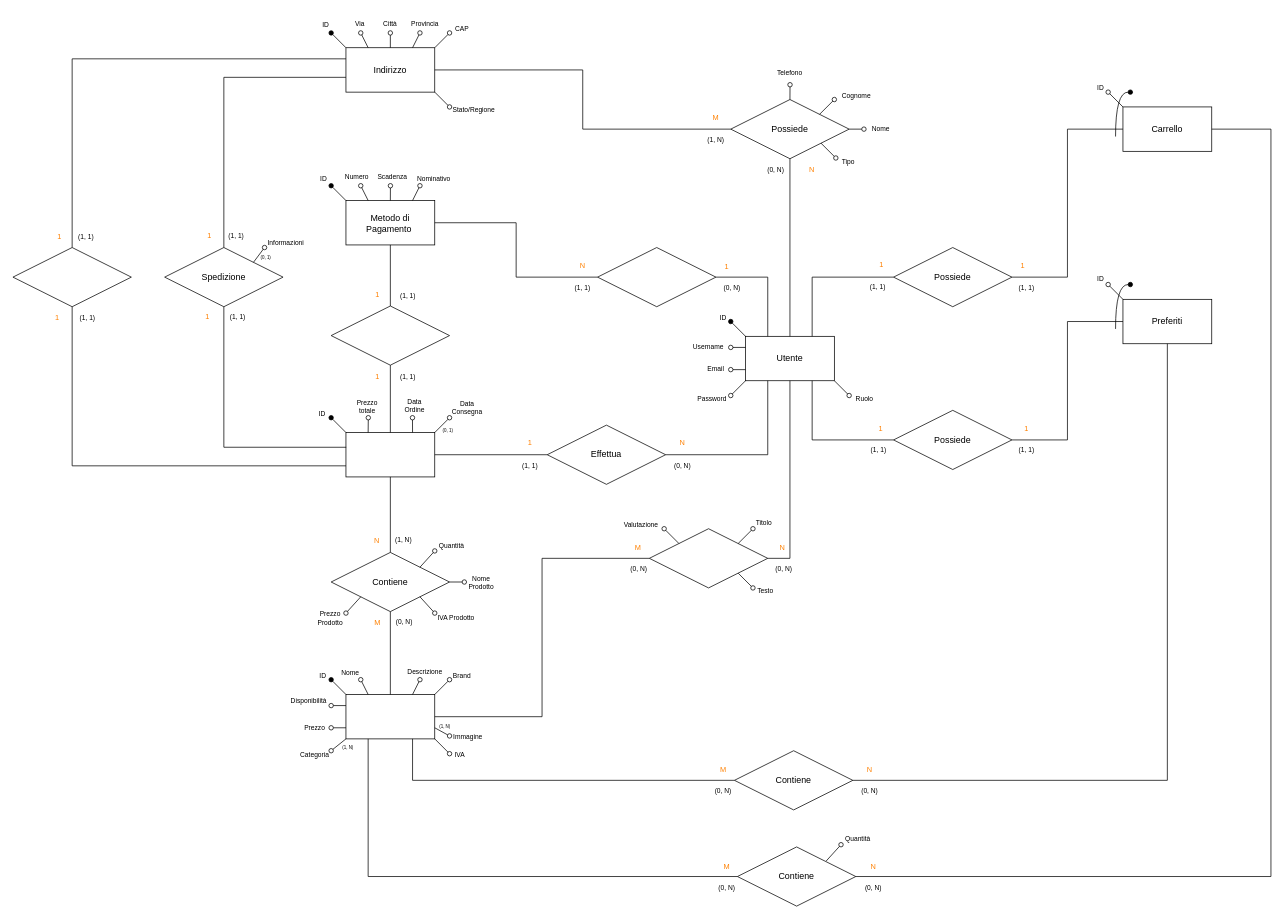
The diagram is 1285 pixels wide and 919 high, and some of its shapes have lost their labels. The shapes that lost their labels are listed below. From the top down, each one's centre as x and y in pixels, then its label:
At (71,277): "Fatturazione".
At (656,277): "Utilizza".
At (390,335): "Pagamento".
At (390,454): "Ordine".
At (708,558): "Recensione".
At (390,716): "Prodotto".
